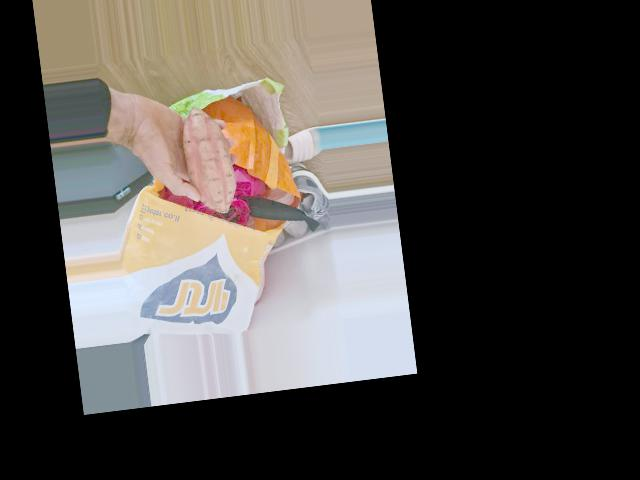sweet_potato: (176, 104, 238, 217)
